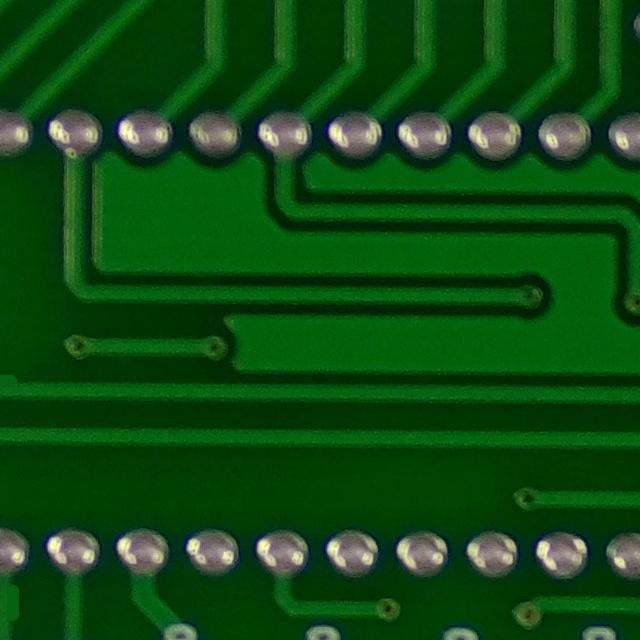spur: (0, 572, 30, 624)
